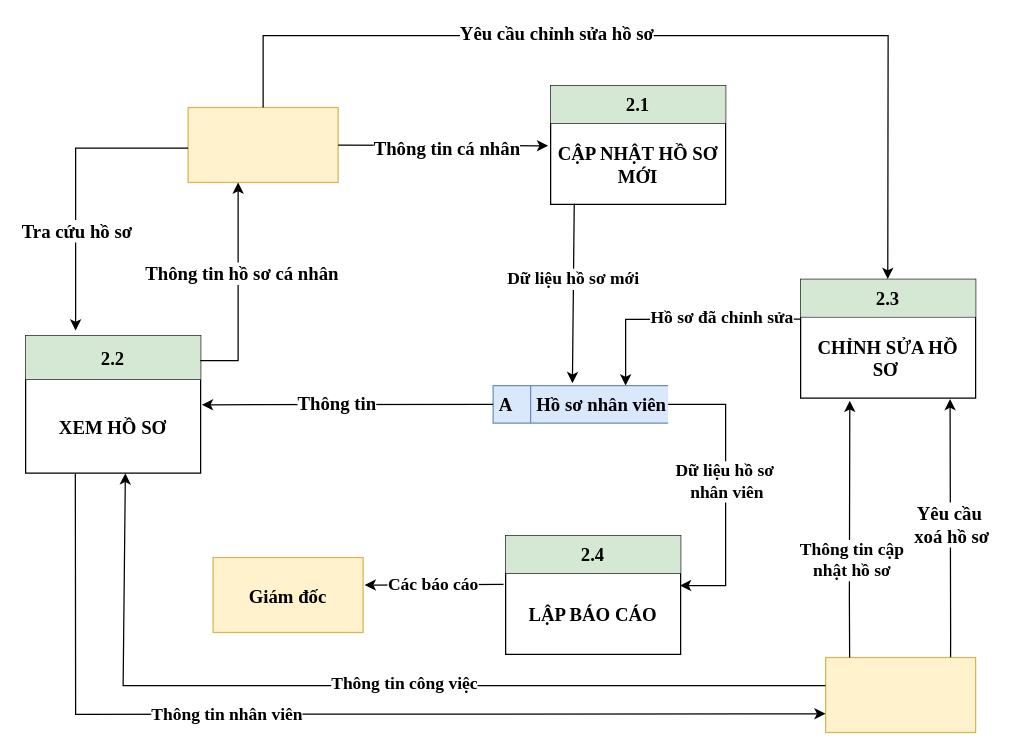
This 1011x755 diagram has some shape labels left out. The shapes that lost their labels are listed below. From the top down, each one's centre as x and y in pixels, then its label:
At point (262, 144): "Nhân viên".
At point (900, 694): "Chuyên viên nhân sự".
